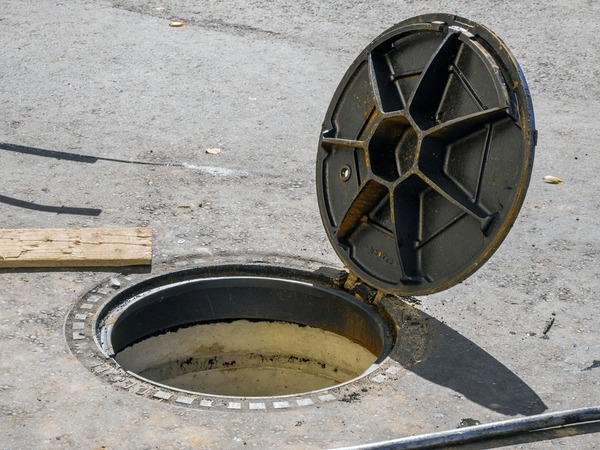open_manhole: (84, 252, 394, 396)
